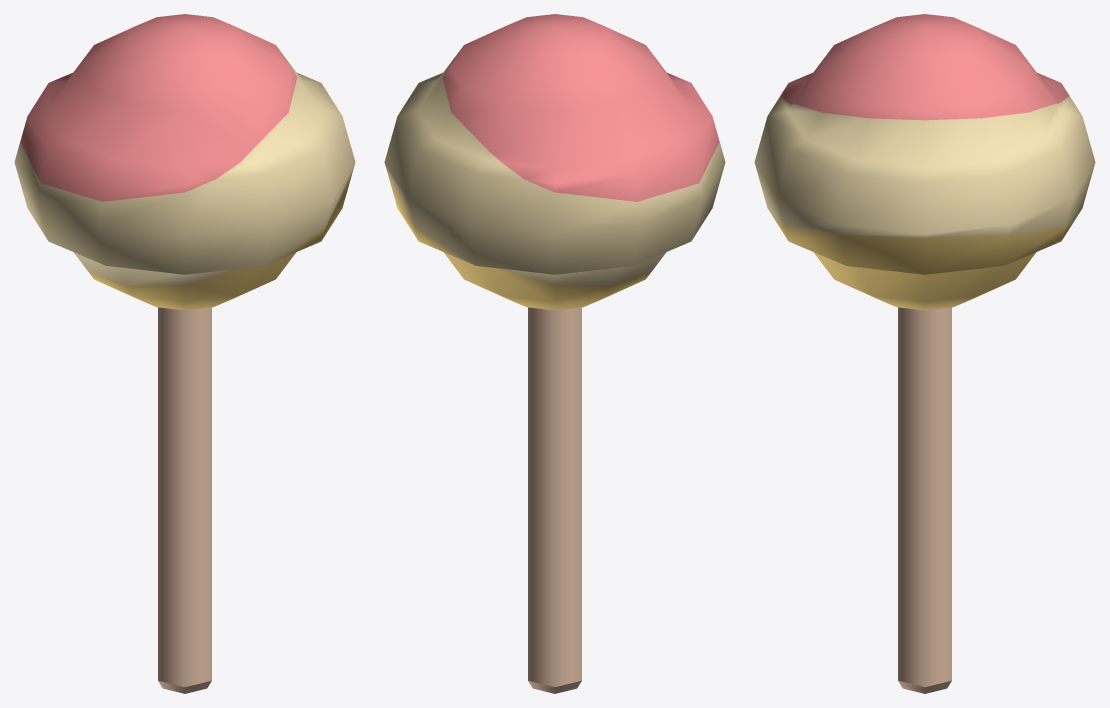
The model's file is HandAcc_6.fbx.
The picture shows the model from 3 angles, left to right: view 1: azimuth 30°, elevation 25°; view 2: azimuth 150°, elevation 25°; view 3: azimuth 270°, elevation 25°; orthographic projection.
Parts seen in each view (by area): view 1: HandAcc_6; view 2: HandAcc_6; view 3: HandAcc_6.
Boxes of the visible parts, box(x1,y1,x2,y2) form: HandAcc_6: box(14, 14, 355, 693); HandAcc_6: box(384, 14, 725, 693); HandAcc_6: box(754, 14, 1095, 693).
Size of the model in its own units: 14.21 by 30.13 by 14.21.
